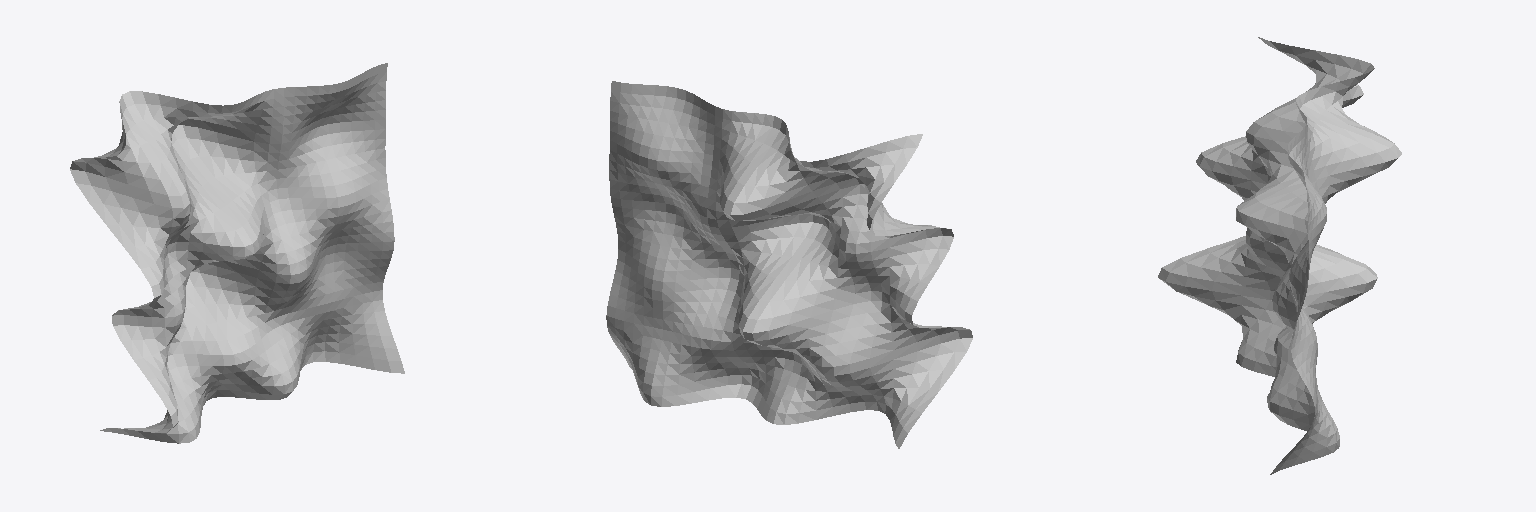
3 renders of one model, left to right at view 1: azimuth 30°, elevation 25°; view 2: azimuth 150°, elevation 25°; view 3: azimuth 270°, elevation 25°, orthographic.
Parts seen in each view (by area): view 1: SurfPatch_Mesh; view 2: SurfPatch_Mesh; view 3: SurfPatch_Mesh.
Part boxes in pixels (left/top/right/bottom): SurfPatch_Mesh: left=70, top=63, right=404, bottom=443; SurfPatch_Mesh: left=606, top=81, right=972, bottom=448; SurfPatch_Mesh: left=1158, top=37, right=1401, bottom=474.
Size of the model in its own units: 1.97 by 1.95 by 1.45.